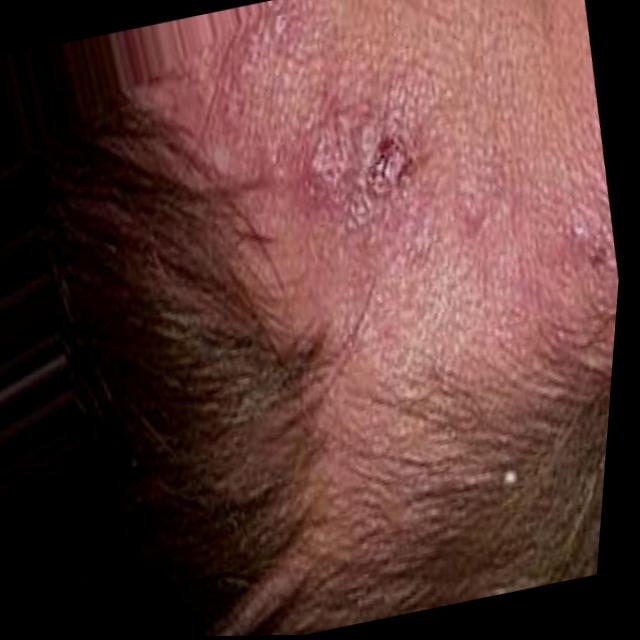Rosacea: (164, 0, 640, 385)
